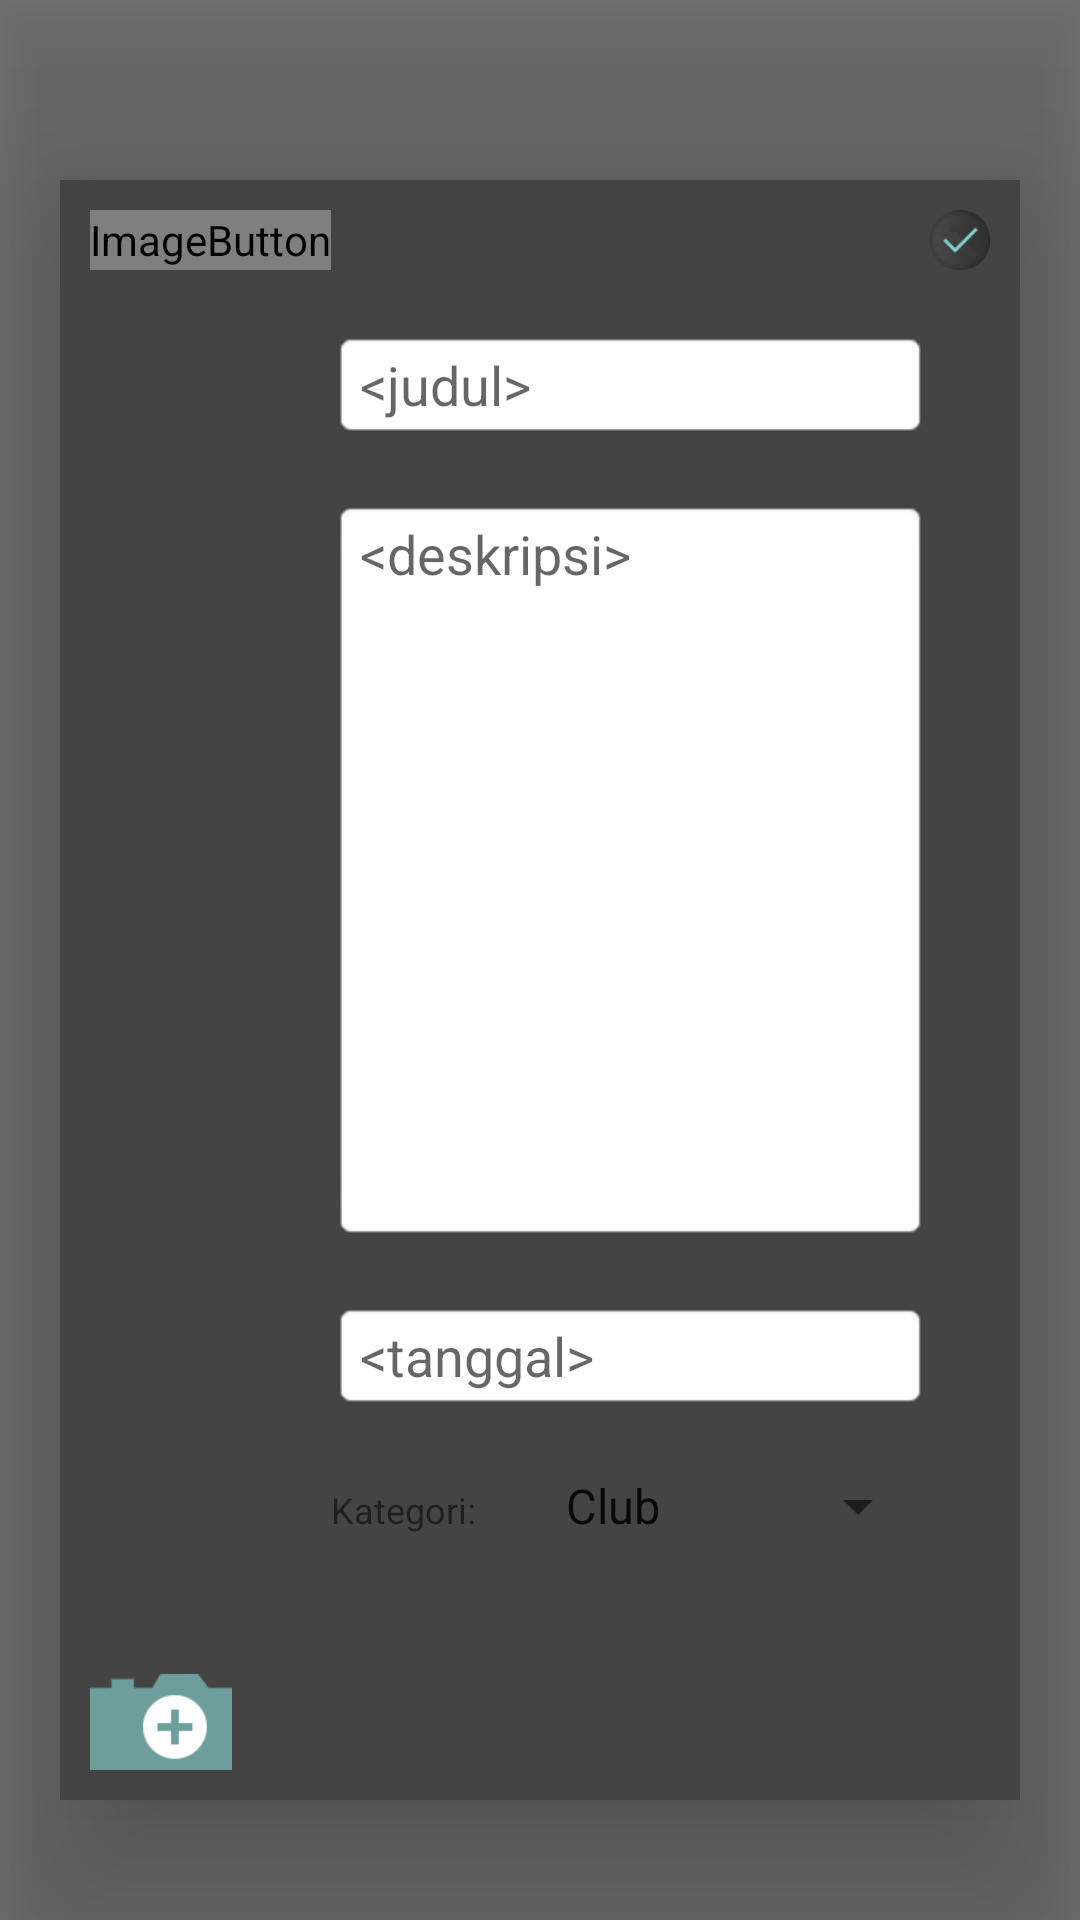

Where to tap for icons on this 1080w x 1920h app screen, as (x,y):
find team camera: (161,1722)
setting ok: (966,240)
